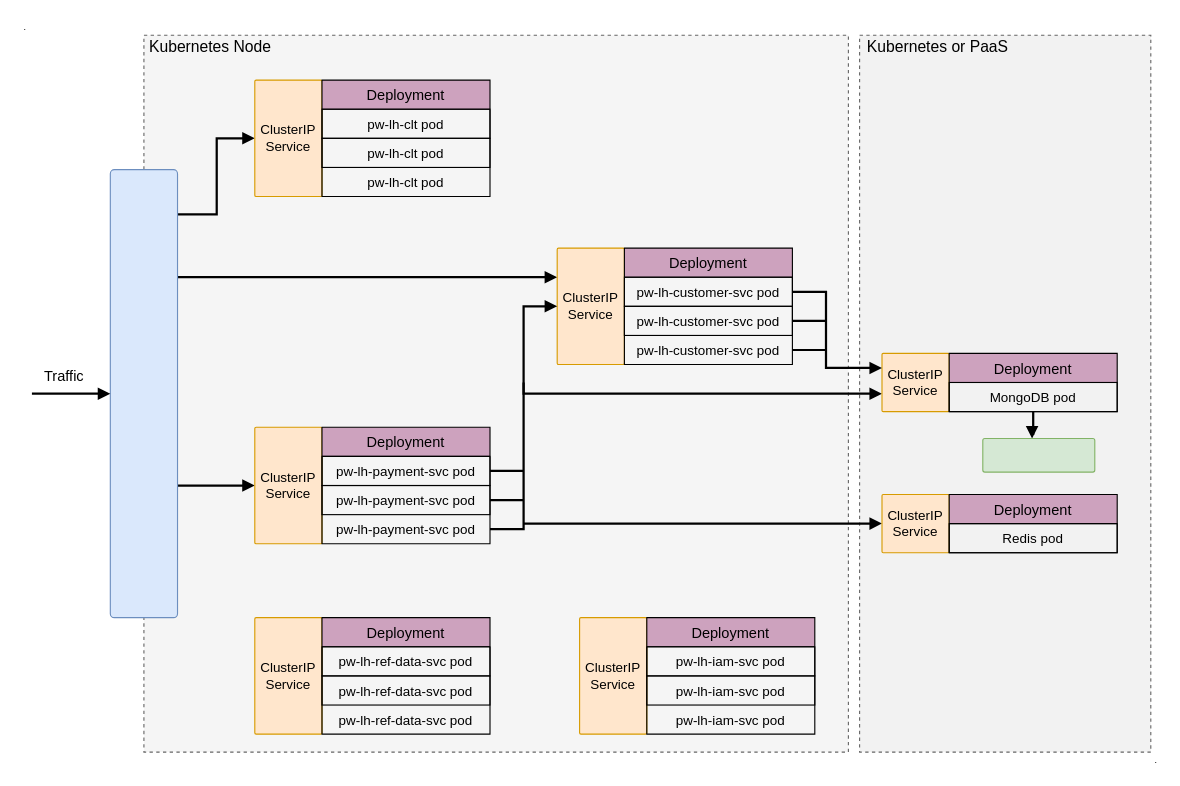
Image size: 1180x786. Some labels were removed from this diagram. Here are the shapes that lost their labels. From the top down, the centre of each, then its label:
At point (143, 393): "Ingress Service".
At point (1038, 454): "MongoDB PVC".
